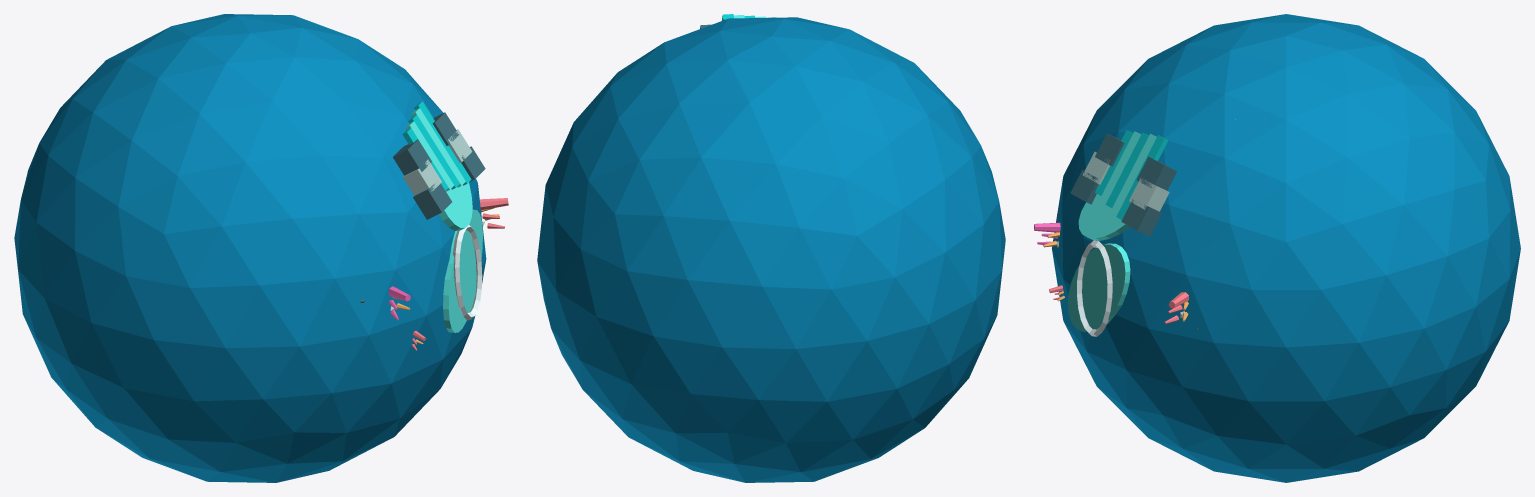
File: Ocean_06.fbx
3 views of the same model, side by side, from view 1: azimuth 30°, elevation 25°; view 2: azimuth 150°, elevation 25°; view 3: azimuth 270°, elevation 25° (orthographic).
Visible parts, largest first — view 1: Ocean_06; view 2: Ocean_06; view 3: Ocean_06.
Boxes of the visible parts, box(x1,y1,x2,y2) form: Ocean_06: box(14, 14, 508, 482); Ocean_06: box(537, 14, 1005, 482); Ocean_06: box(1034, 14, 1520, 482).
Size of the model in its own units: 6 by 6 by 6.23.
Materials: 1 (1 with a texture image).
